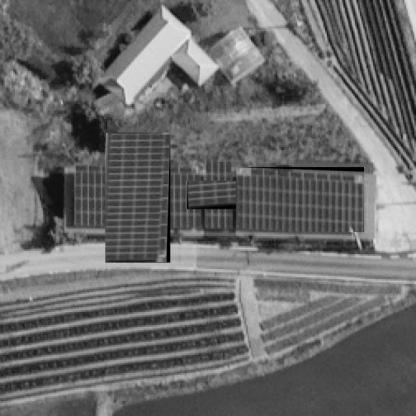solar-pv-panel: (105, 133, 170, 263), (236, 168, 364, 232), (187, 181, 254, 209)
